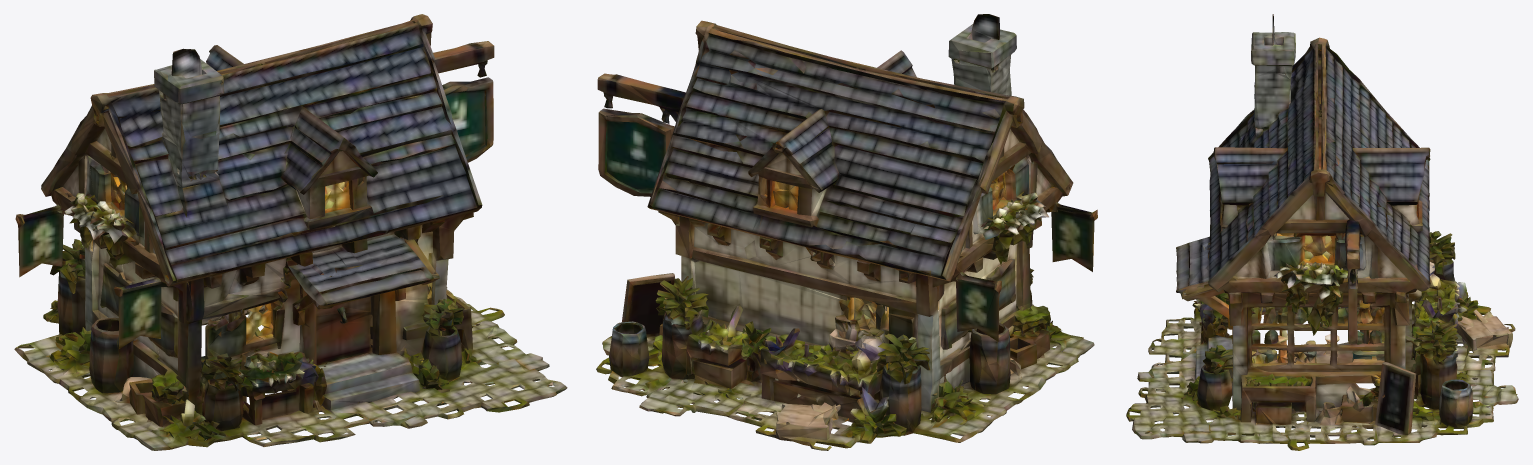
The model's file is apothecaryBuilding.glb.
3 renders of one model, left to right at view 1: azimuth 30°, elevation 25°; view 2: azimuth 150°, elevation 25°; view 3: azimuth 270°, elevation 25°, orthographic. The views are drawn at different scales.
Visible parts, largest first — view 1: geometry_0; view 2: geometry_0; view 3: geometry_0.
Boxes of the visible parts, x1,y1,x2,y2 form: geometry_0: (14, 14, 567, 450); geometry_0: (596, 14, 1097, 450); geometry_0: (1126, 14, 1518, 450).
Bounding box in the file's own units: 0.9989 × 0.7744 × 0.9135.
1 material, 1 textured.
